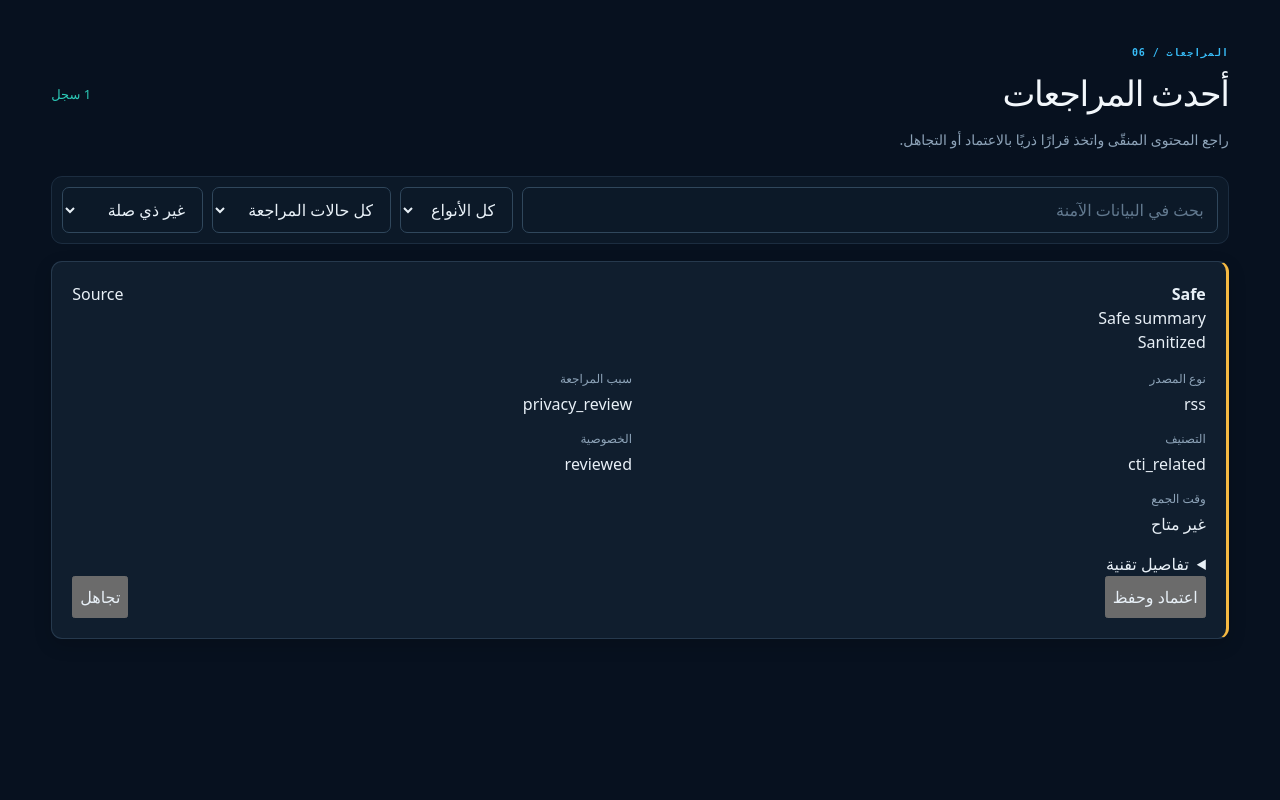
Scenario: external reviews states › confirms an exact review decision and shows backend-confirmed success
The width and height of the screenshot is (1280, 800).
Click the button "اعتماد وحفظ": coordinates (1155, 597) x1=1105 y1=576 x2=1206 y2=618
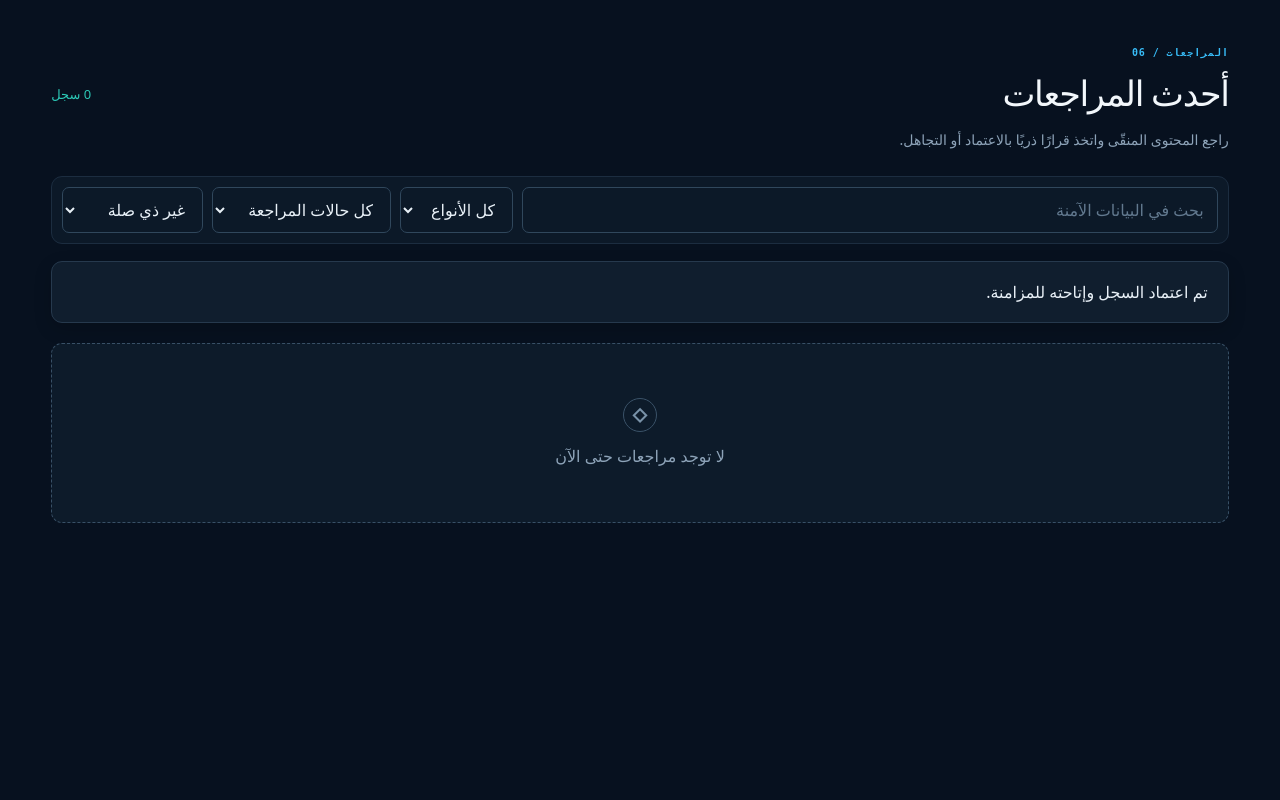
Check: the message shows "تم اعتماد السجل", box x1=986 y1=281 x2=1208 y2=303
Check: the text "Safe" is gone
